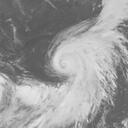cyclone: (22, 18, 119, 127)
